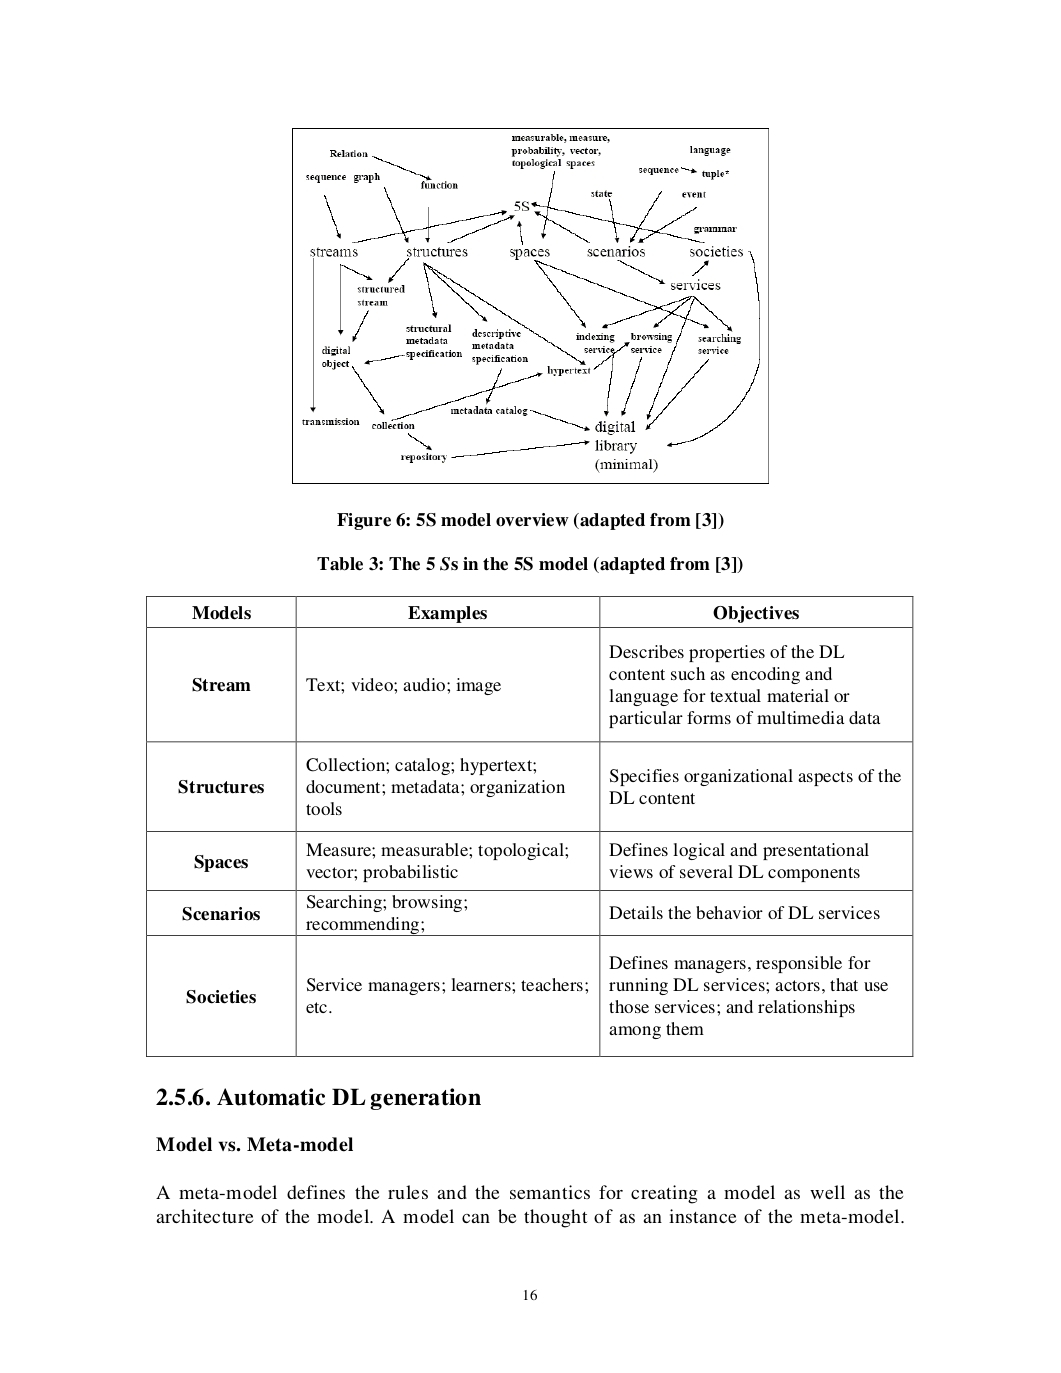Table: (146, 595, 913, 1056)
figure: (292, 127, 768, 484)
